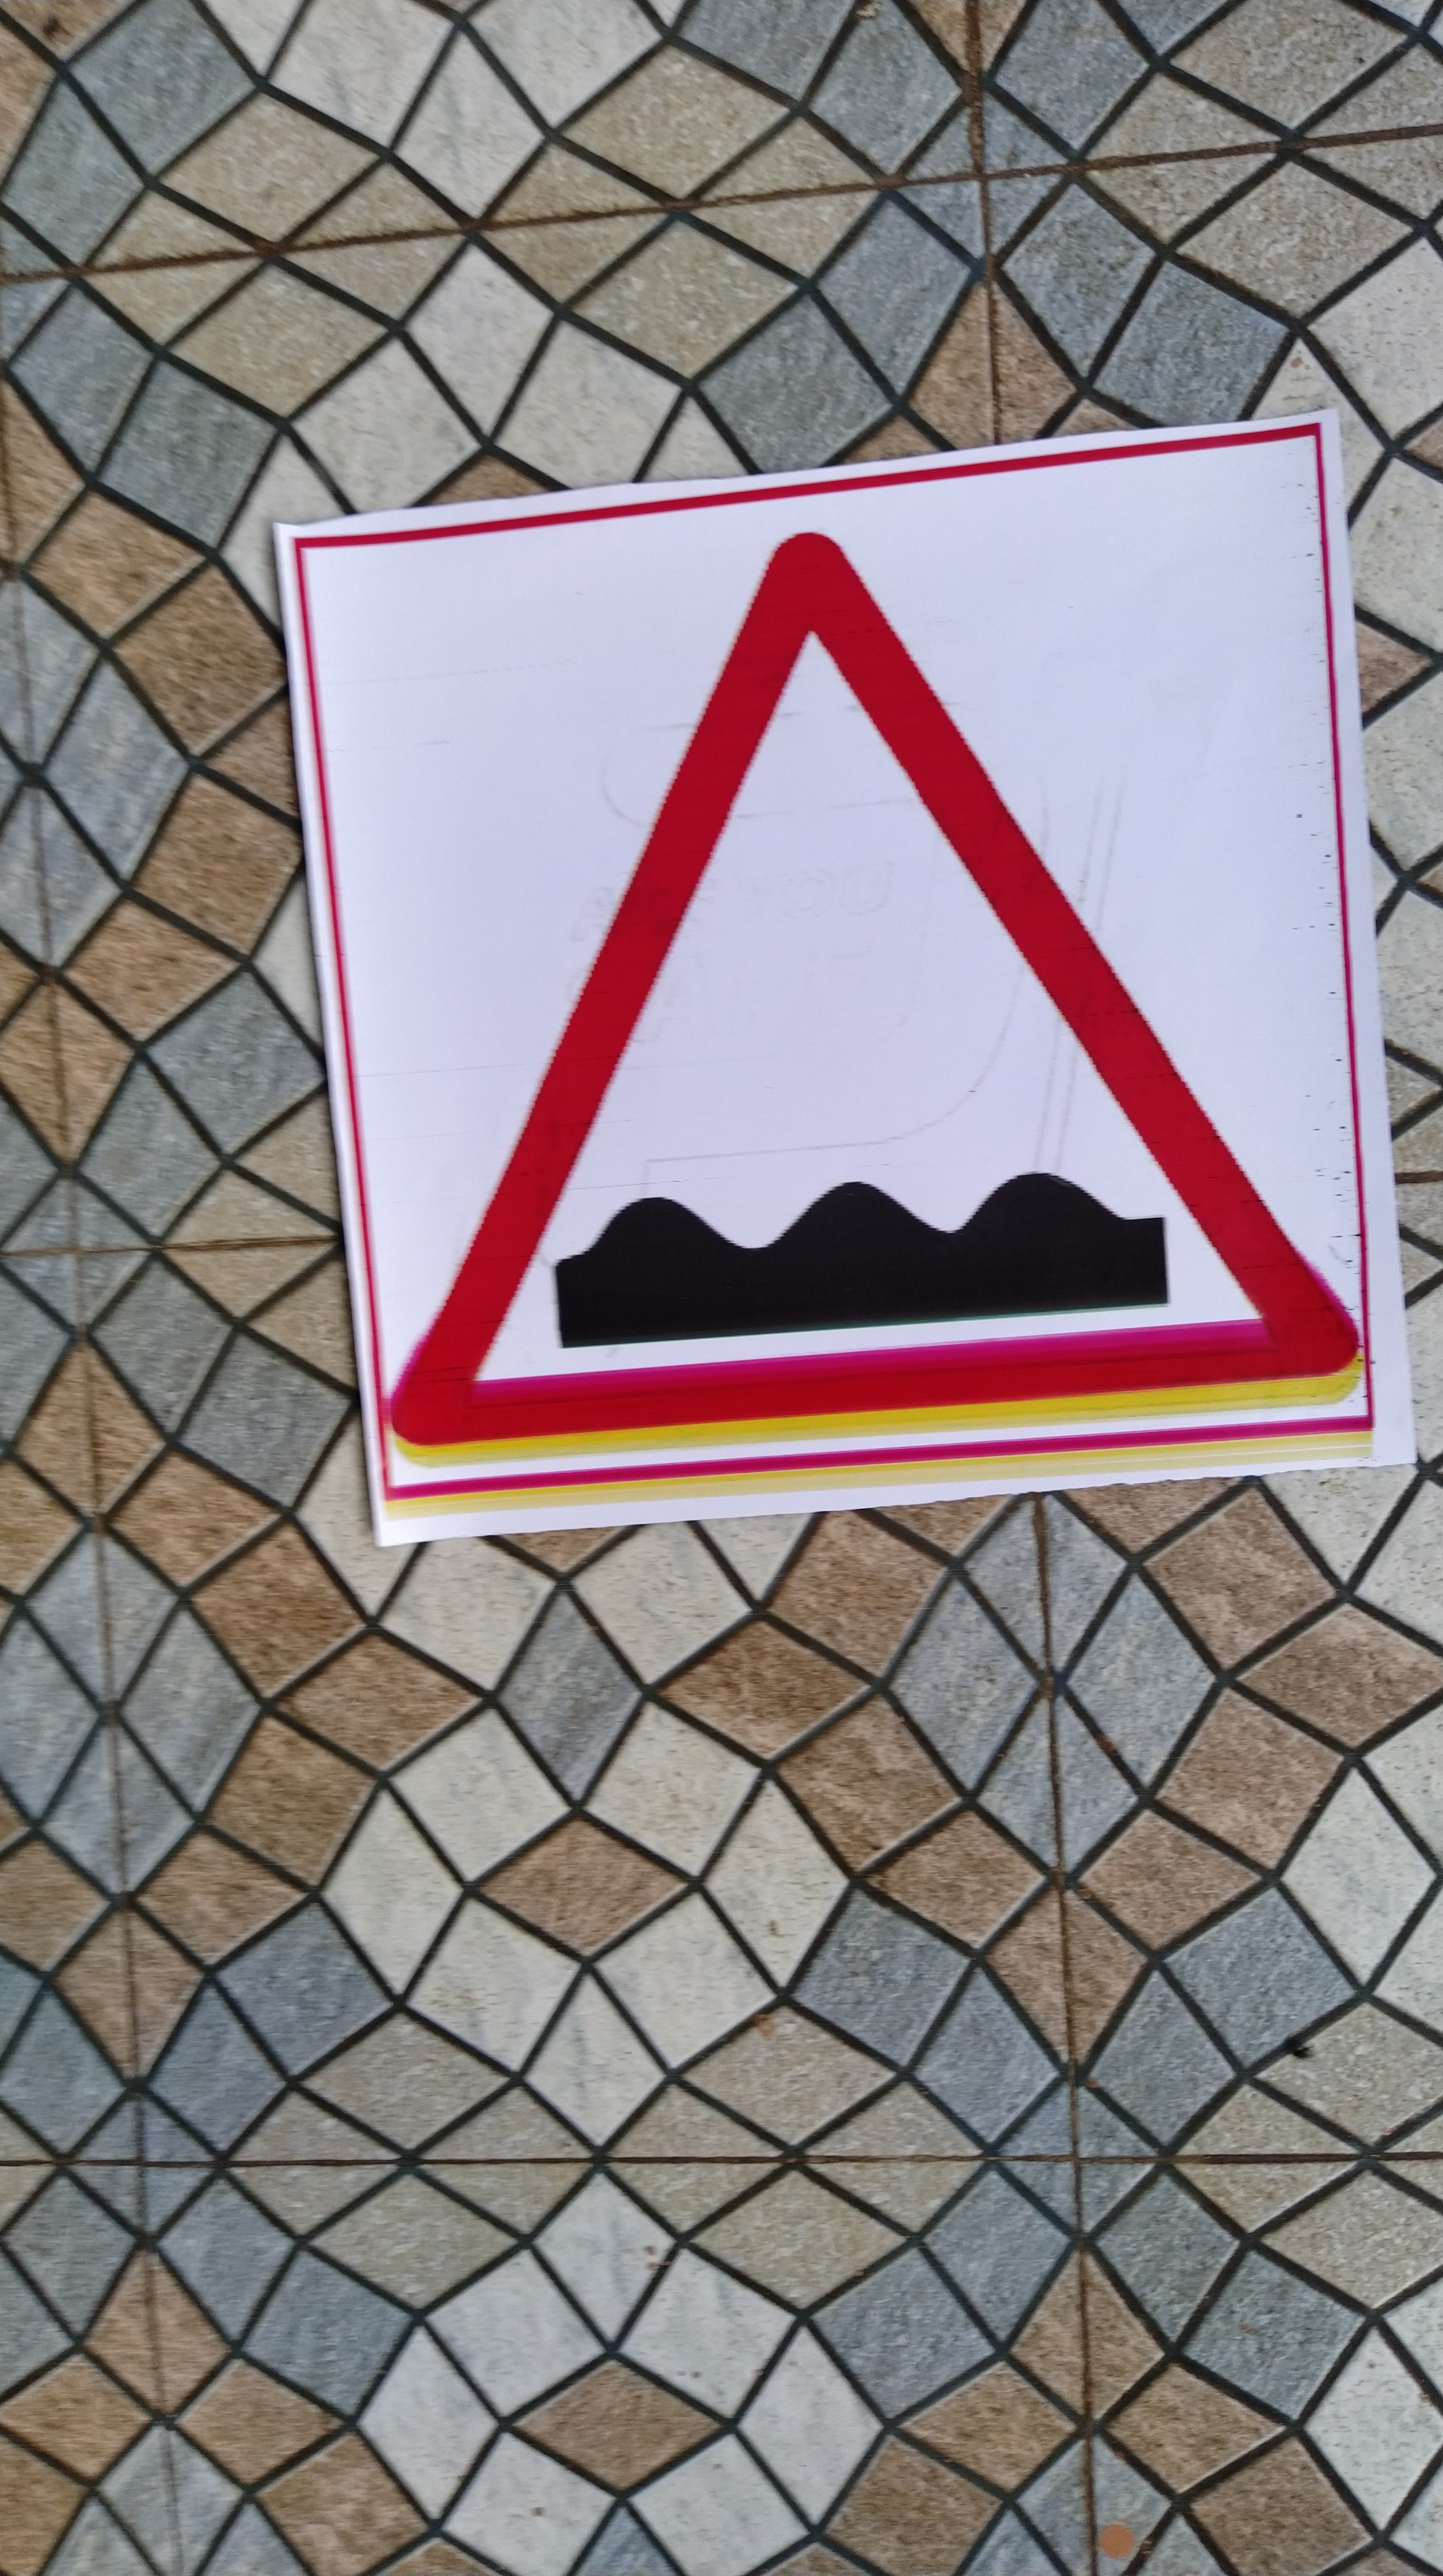speed breaker: (333, 513, 1395, 1476), (349, 510, 1388, 1479)
